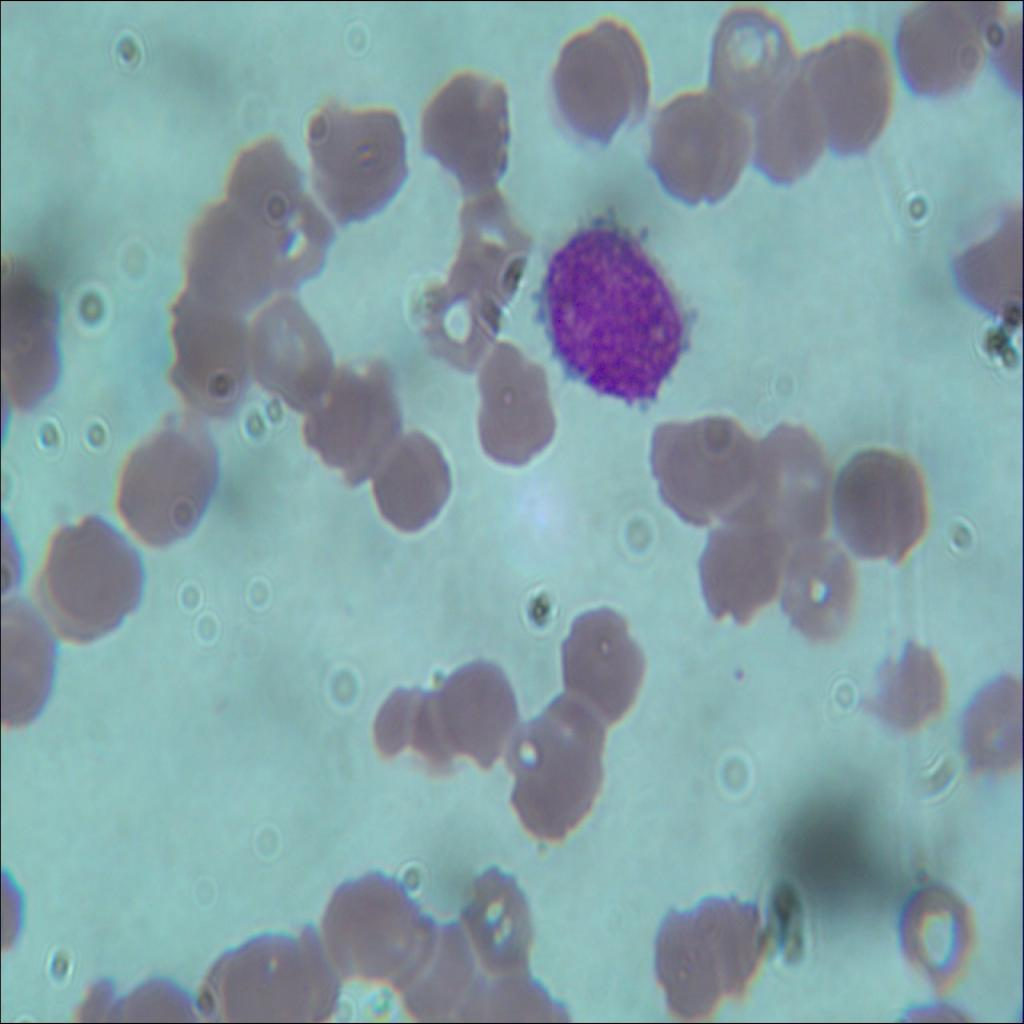Eritrosit: (442, 334, 559, 468), (644, 396, 754, 522), (839, 424, 935, 568), (35, 511, 136, 647), (509, 698, 608, 835), (639, 85, 746, 208), (542, 18, 650, 138), (115, 418, 215, 545), (304, 102, 402, 228), (421, 59, 511, 194), (298, 364, 398, 482), (556, 595, 646, 724), (744, 418, 836, 544), (168, 285, 251, 421), (895, 0, 991, 117), (811, 24, 896, 152), (364, 424, 455, 538), (182, 198, 268, 318), (241, 290, 331, 404), (321, 872, 416, 977), (695, 514, 784, 624), (711, 8, 798, 118), (436, 655, 521, 767), (438, 191, 526, 295), (743, 67, 819, 186), (775, 534, 859, 639), (694, 882, 766, 1001), (954, 658, 1023, 781), (214, 127, 298, 227), (418, 266, 498, 371), (903, 872, 978, 984), (458, 864, 535, 972), (396, 914, 470, 1023), (866, 635, 944, 737), (258, 191, 332, 298), (655, 904, 721, 1014), (223, 939, 299, 1023)
Limfoblast: (538, 218, 688, 410)
